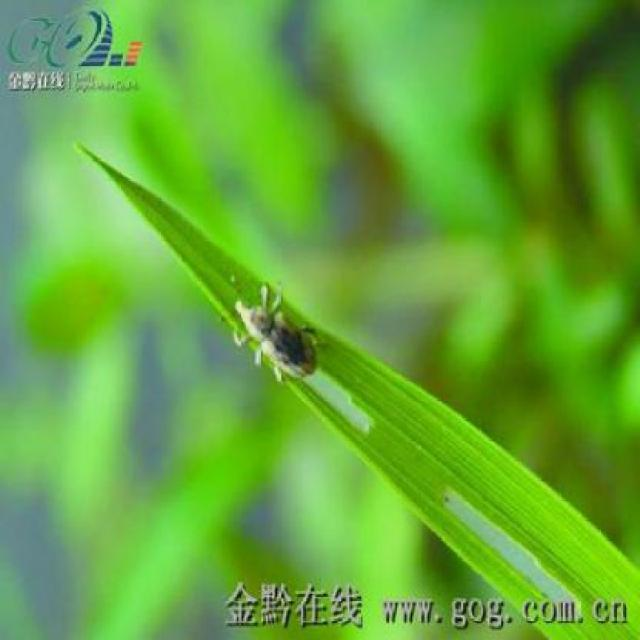rice-bug: (232, 268, 322, 382)
